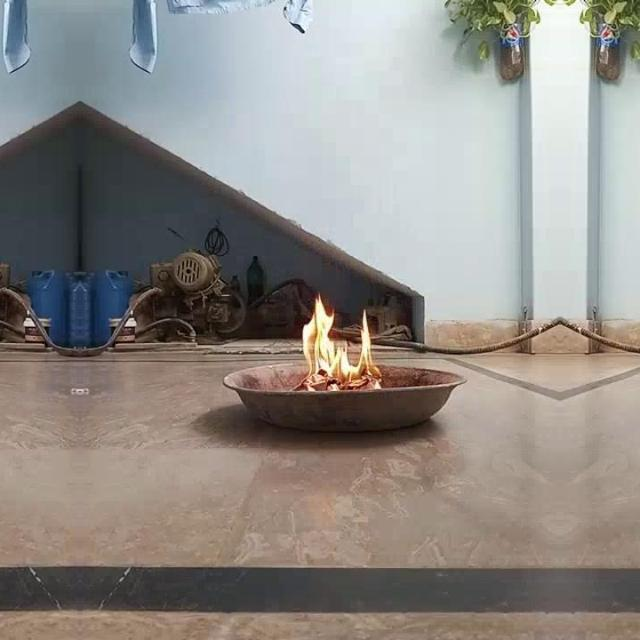smoke: (291, 292, 381, 391)
